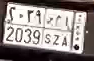0: (15, 13, 24, 43)
2: (6, 6, 16, 42)
3: (23, 9, 34, 44)
9: (33, 10, 42, 45)
A: (62, 15, 70, 47)
S: (44, 16, 54, 45)
Z: (53, 14, 62, 45)
